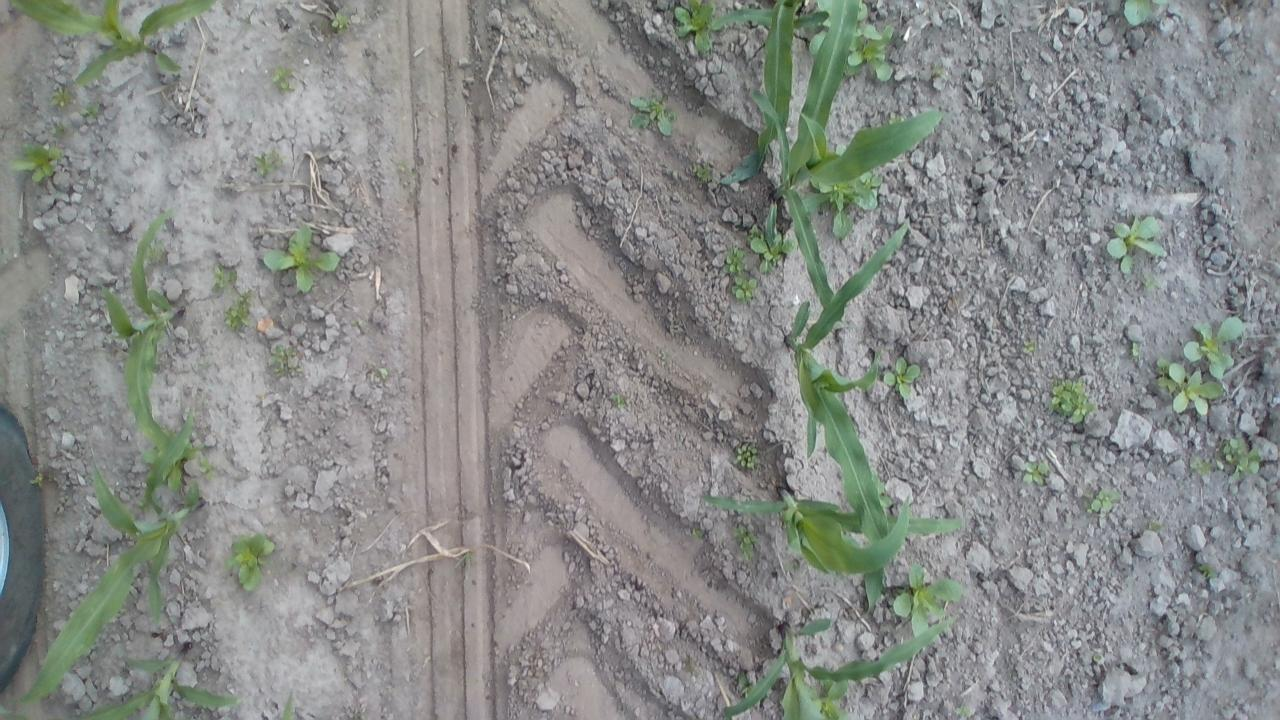Maize: (749, 2, 950, 314), (19, 393, 207, 706), (779, 209, 920, 622), (707, 598, 962, 720), (96, 200, 209, 458), (696, 474, 970, 580), (713, 0, 827, 187), (9, 0, 223, 89), (64, 640, 236, 720), (280, 688, 298, 720), (0, 703, 29, 720)
Weeds: (888, 559, 966, 640), (258, 222, 340, 296), (806, 178, 886, 243), (1154, 354, 1228, 417), (1182, 312, 1246, 384), (1107, 212, 1166, 274), (855, 3, 896, 84), (1044, 372, 1101, 428), (226, 531, 277, 593), (668, 0, 722, 54), (744, 222, 797, 274), (626, 83, 677, 136), (719, 241, 758, 304), (8, 140, 62, 185), (882, 353, 926, 404), (1222, 434, 1260, 484), (219, 284, 253, 332), (814, 680, 850, 720), (1123, 0, 1171, 28), (266, 342, 301, 380), (1081, 486, 1119, 517), (732, 521, 760, 562), (252, 146, 286, 179), (208, 262, 240, 296), (730, 441, 761, 470), (1022, 460, 1054, 488), (269, 64, 296, 97), (48, 85, 76, 112), (688, 159, 716, 185), (330, 10, 353, 34), (454, 552, 477, 576), (195, 452, 214, 481), (1199, 559, 1221, 584), (1186, 456, 1212, 476), (929, 57, 950, 81), (77, 100, 101, 121), (1141, 270, 1161, 294), (147, 242, 164, 266), (609, 391, 629, 410), (48, 118, 67, 138), (396, 158, 414, 179), (369, 364, 388, 382), (952, 703, 972, 720), (29, 470, 46, 490), (736, 670, 750, 694), (1147, 519, 1164, 537), (1020, 338, 1037, 356), (690, 528, 706, 541), (1130, 340, 1140, 359), (886, 109, 900, 122), (1093, 650, 1104, 664), (350, 318, 363, 328)
